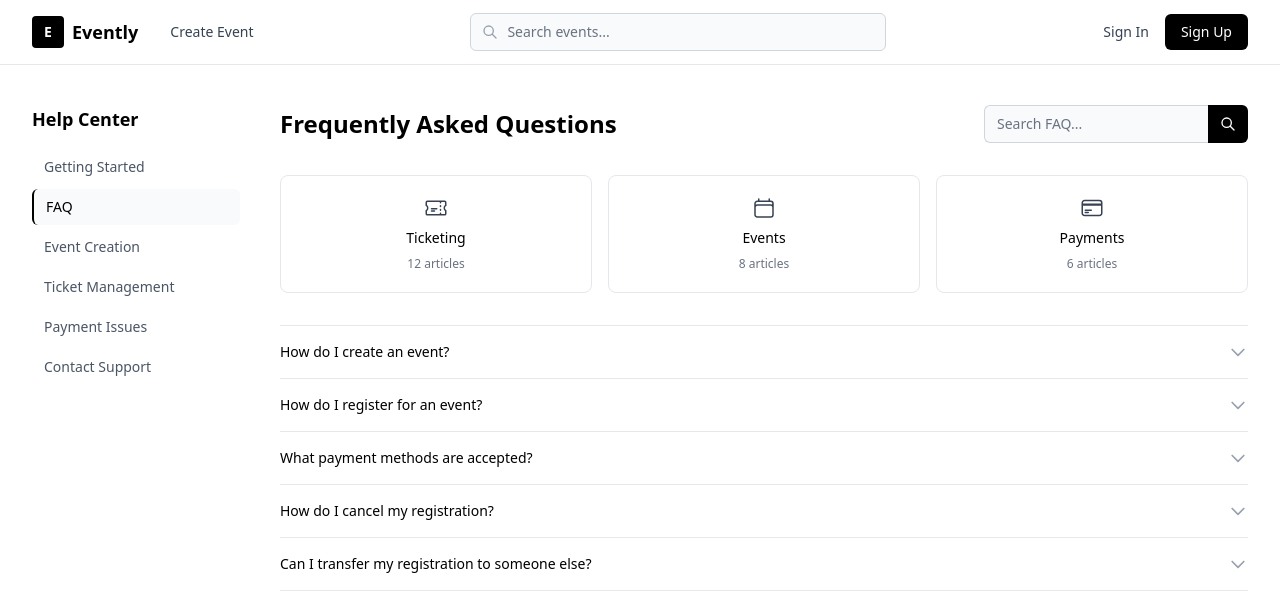
Test: HelpPage › filters FAQs based on search query
Type "cancel" into the search field with placeholder "Search FAQ...". click: [1096, 124]
box: [984,105,1208,143]
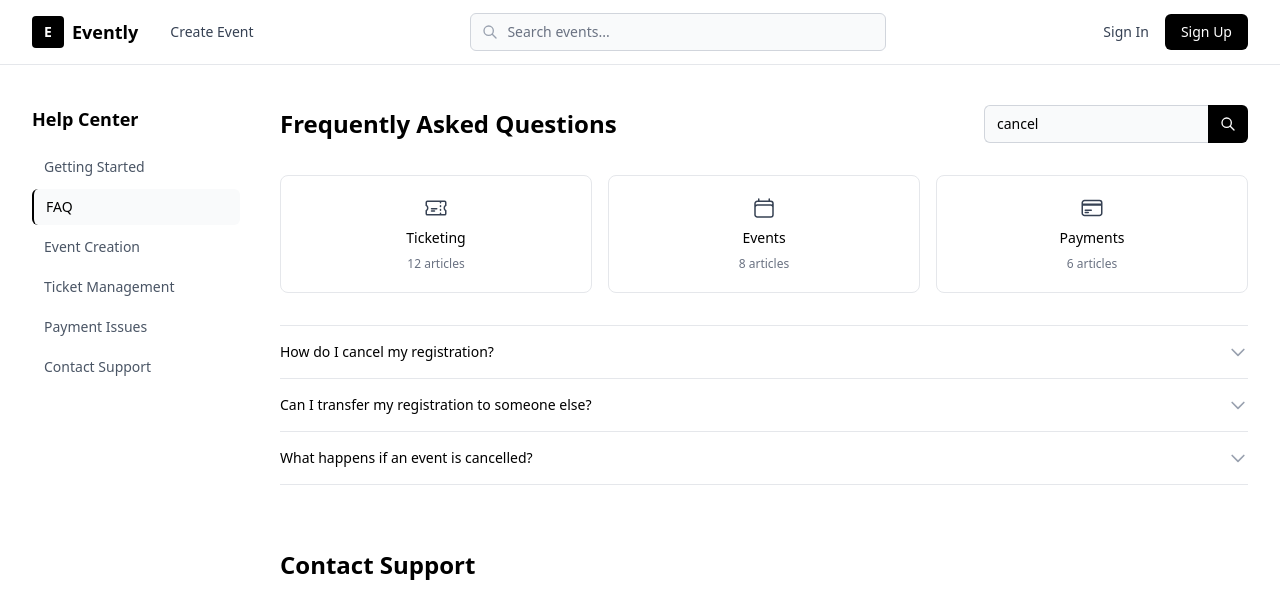
Expected: the text "How do I cancel my registration?" is shown, [280,342,494,362]
Now the button "How do I create an event?" is gone
